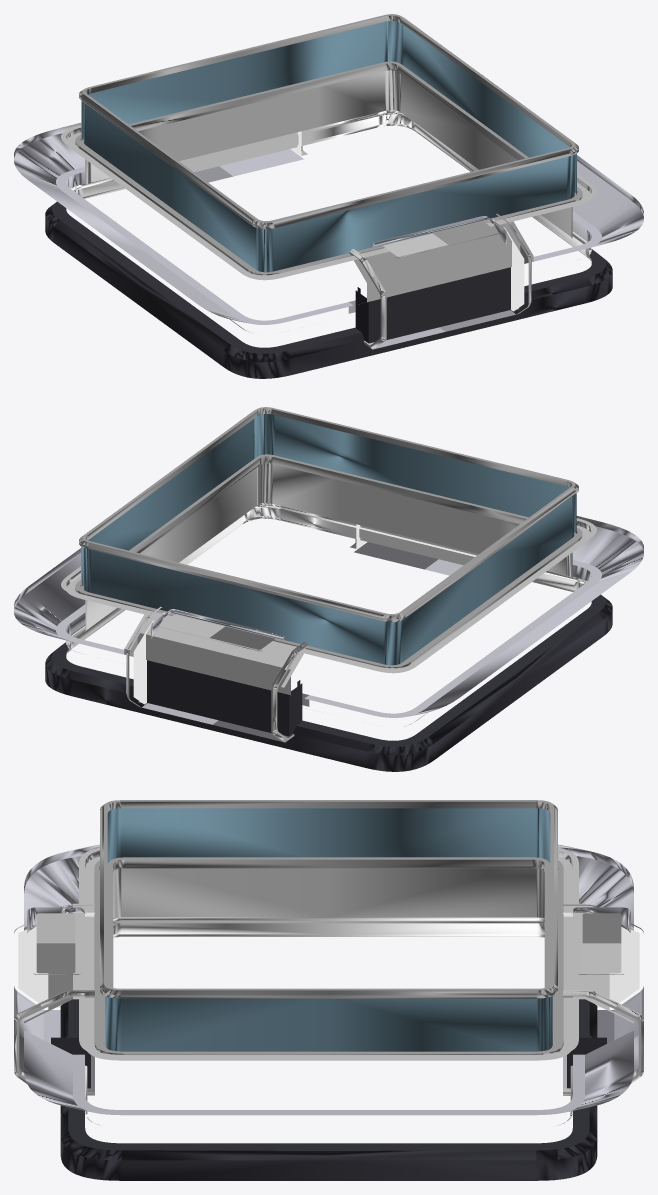
File: addon_planter_terrarium_05x05x02_a.glb
The picture shows the model from 3 angles, top to bottom: view 1: azimuth 30°, elevation 25°; view 2: azimuth 150°, elevation 25°; view 3: azimuth 270°, elevation 25°; orthographic projection. The views are drawn at different scales.
Size of the model in its own units: 6 by 1.87 by 6.2.
